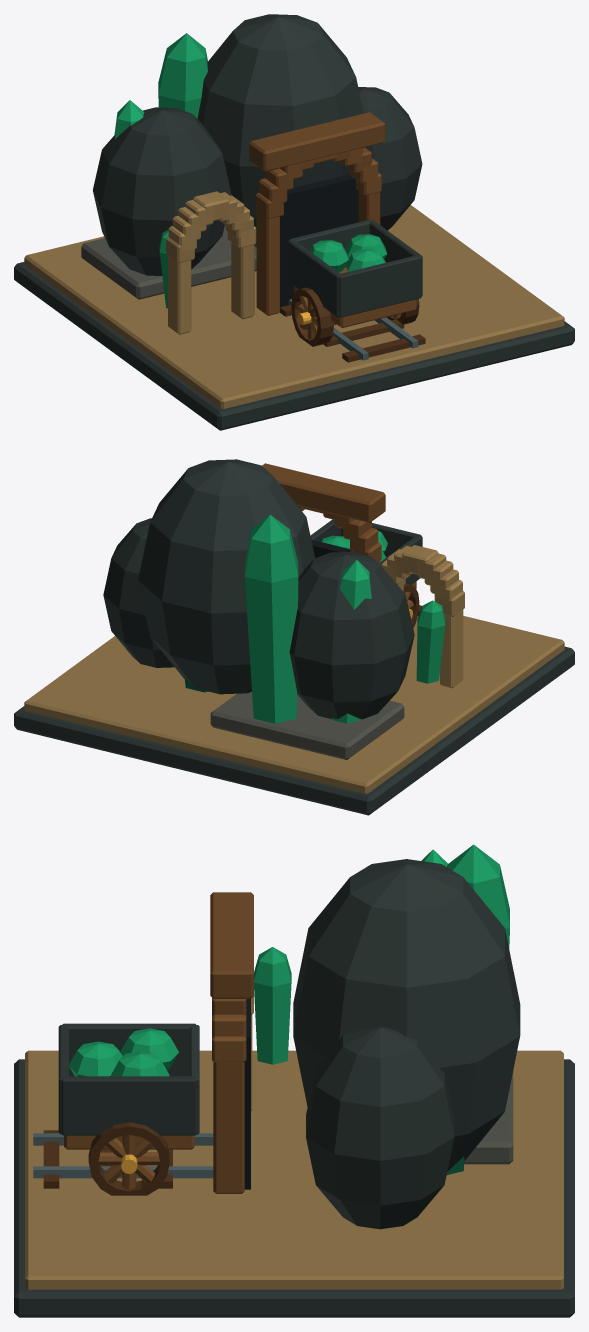
3 views of the same model, one above another, from view 1: azimuth 30°, elevation 25°; view 2: azimuth 150°, elevation 25°; view 3: azimuth 270°, elevation 25° (orthographic). The views are drawn at different scales.
Visible parts, largest first — view 1: gem_mine_3_structure; view 2: gem_mine_3_structure; view 3: gem_mine_3_structure.
Boxes of the visible parts, x1,y1,x2,y2 form: gem_mine_3_structure: (14, 14, 574, 430); gem_mine_3_structure: (14, 459, 574, 815); gem_mine_3_structure: (14, 844, 574, 1317).
Size of the model in its own units: 3.6 by 2.5 by 3.6.
